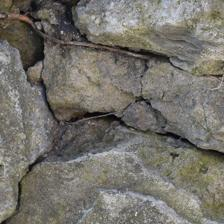Crack: (51, 23, 106, 199), (10, 39, 84, 111), (72, 77, 98, 144)
